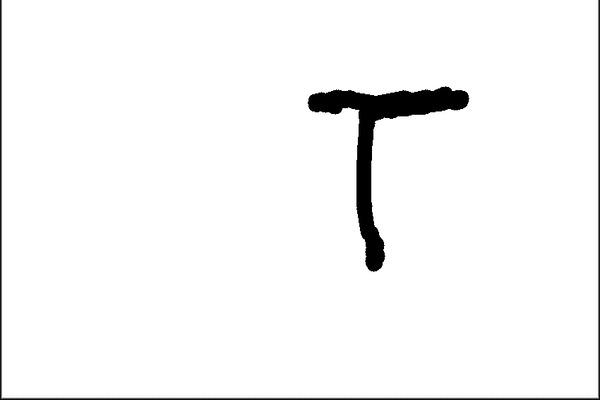T: (297, 75, 475, 273)
